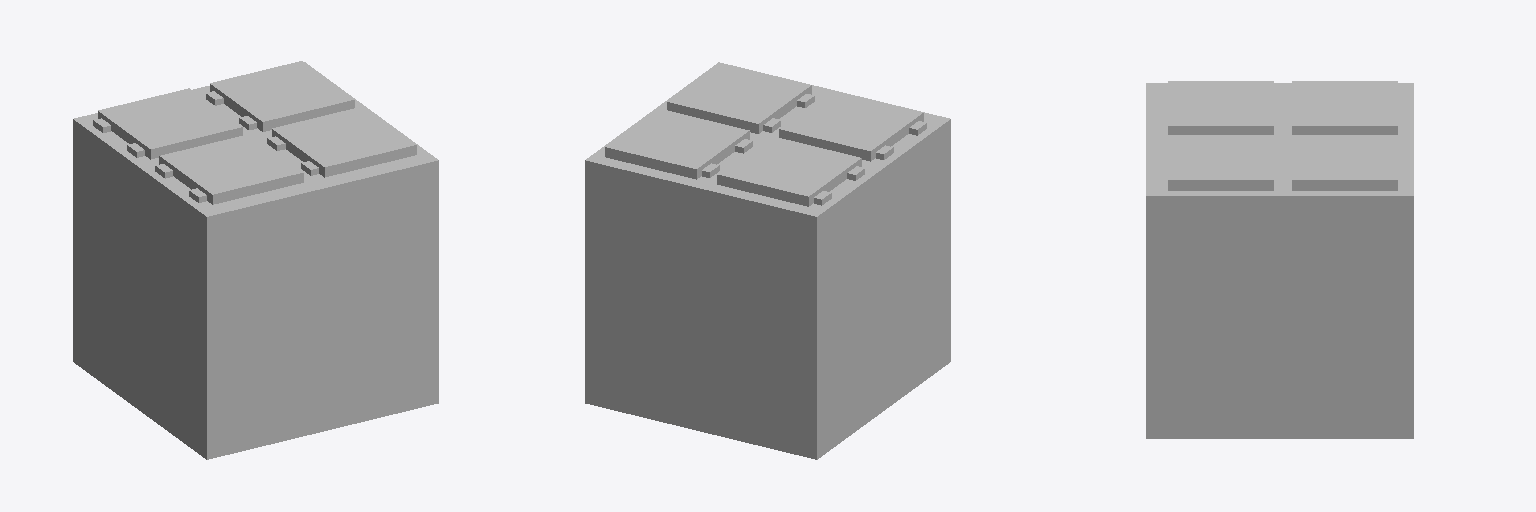
File: vls.obj
The picture shows the model from 3 angles: view 1: azimuth 30°, elevation 25°; view 2: azimuth 150°, elevation 25°; view 3: azimuth 270°, elevation 25°; orthographic projection.
Parts seen in each view (by area): view 1: Cube.001; view 2: Cube.001; view 3: Cube.001.
Part boxes in pixels (x1,y1,x2,y2): Cube.001: (73, 61, 438, 459); Cube.001: (585, 62, 950, 459); Cube.001: (1146, 81, 1413, 438).
Size of the model in its own units: 2 by 2.08 by 2.